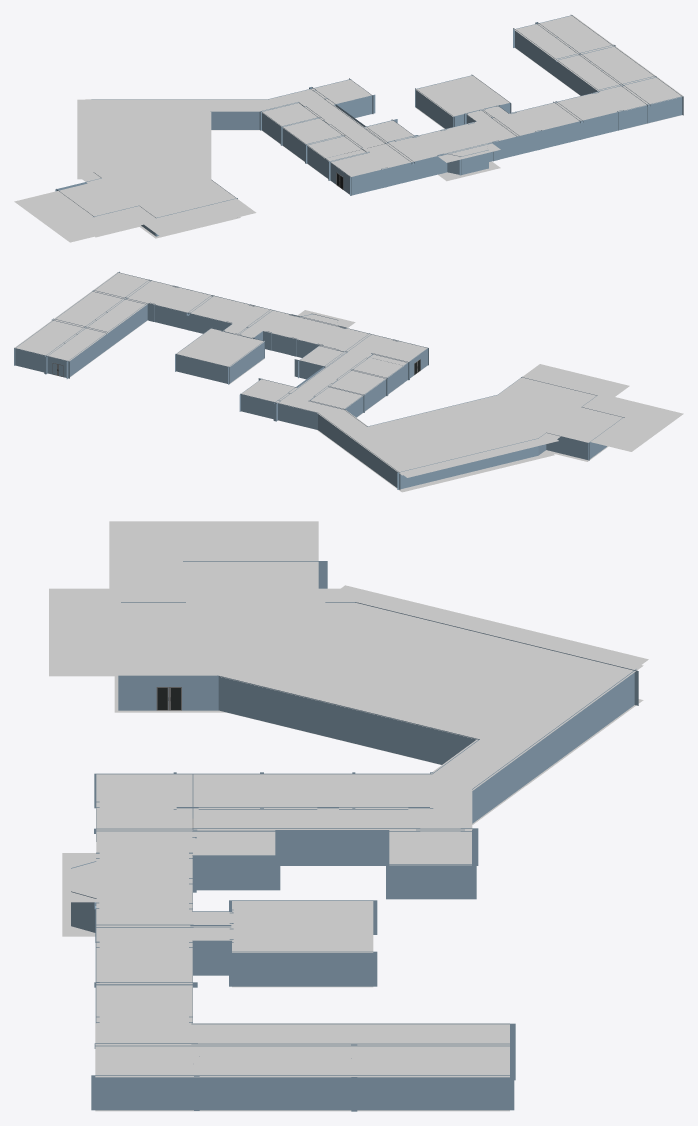
File: Asylum map.fbx
The picture shows the model from 3 angles, top to bottom: view 1: azimuth 30°, elevation 25°; view 2: azimuth 150°, elevation 25°; view 3: azimuth 270°, elevation 25°; orthographic projection. The views are drawn at different scales.
Parts seen in each view (by area): view 1: Polygon_20, Polygon_21, Polygon_23, Polygon_18, Polygon_16, Polygon_22, Polygon_13, Polygon_19, Polygon_15, wall, wall_34, wall_14 (+11 smaller); view 2: Polygon_20, Polygon_21, Polygon_23, Polygon_18, Polygon_16, Polygon_22, Polygon_13, Polygon_19, Polygon_15, wall_22, wall_24, wall_12 (+13 smaller); view 3: Polygon_20, Polygon_21, Polygon_23, Polygon_18, Polygon_16, wall_3, Polygon_22, Polygon_13, wall_23, Polygon_19, Polygon_15, wall_24 (+10 smaller).
Part boxes in pixels (x1,y1,x2,y2): Polygon_20: [77, 99, 211, 179]; Polygon_21: [81, 155, 256, 236]; Polygon_23: [514, 15, 683, 110]; Polygon_18: [261, 89, 385, 158]; Polygon_16: [326, 118, 517, 176]; Polygon_22: [14, 183, 144, 242]; Polygon_13: [493, 91, 624, 136]; Polygon_19: [85, 99, 270, 111]; Polygon_15: [415, 75, 510, 116]; wall: [519, 110, 625, 154]; wall_34: [350, 154, 447, 195]; wall_14: [261, 111, 351, 195]; Polygon_20: [345, 395, 558, 477]; Polygon_21: [466, 364, 629, 439]; Polygon_23: [14, 272, 171, 361]; Polygon_18: [277, 352, 403, 416]; Polygon_16: [248, 310, 427, 365]; Polygon_22: [562, 397, 683, 451]; Polygon_13: [150, 286, 271, 327]; Polygon_19: [317, 406, 426, 475]; Polygon_15: [176, 328, 264, 366]; wall_22: [397, 438, 538, 489]; wall_24: [318, 413, 400, 489]; wall_12: [66, 303, 147, 378]; Polygon_20: [220, 585, 648, 739]; Polygon_21: [49, 588, 344, 676]; Polygon_23: [95, 1023, 509, 1077]; Polygon_18: [193, 774, 472, 829]; Polygon_16: [96, 774, 192, 926]; wall_3: [91, 1075, 514, 1110]; Polygon_22: [109, 521, 318, 589]; Polygon_13: [96, 926, 192, 1024]; wall_23: [218, 676, 479, 764]; Polygon_19: [422, 653, 643, 791]; Polygon_15: [232, 901, 373, 952]; wall_24: [472, 669, 636, 823].
Size of the model in its own units: 10262 by 301 by 4679.
